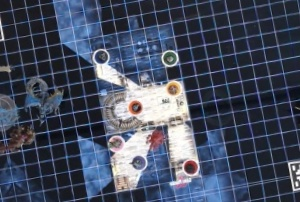blue: (91, 45, 112, 65)
green: (157, 47, 180, 68)
orange: (124, 97, 146, 116)
pink: (105, 131, 126, 152)
red: (180, 156, 201, 179)
violet: (129, 151, 150, 171)
yellow: (163, 78, 183, 97)
